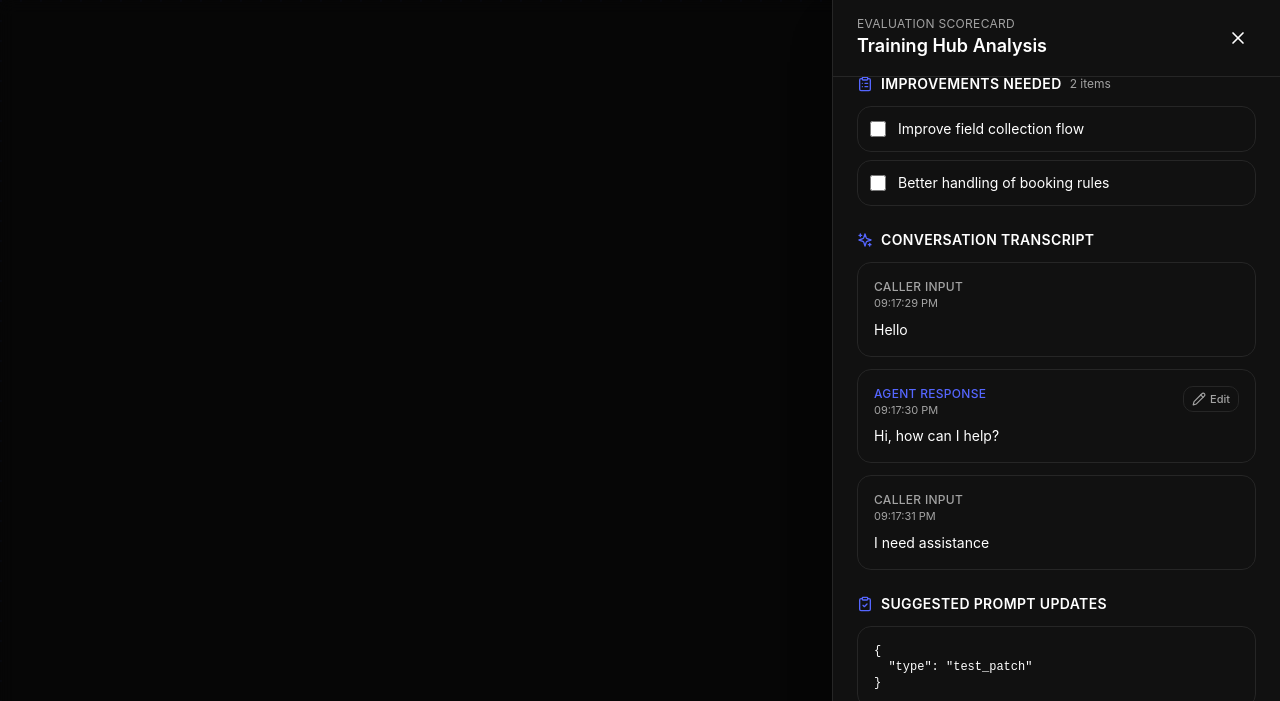
Scenario: EvaluationScorecard › Edit Workflow › should have prompt storage option selected by default
(page scrolled)
Click the button "Edit" at (1211, 399), box left=1183, top=386, right=1239, bottom=412
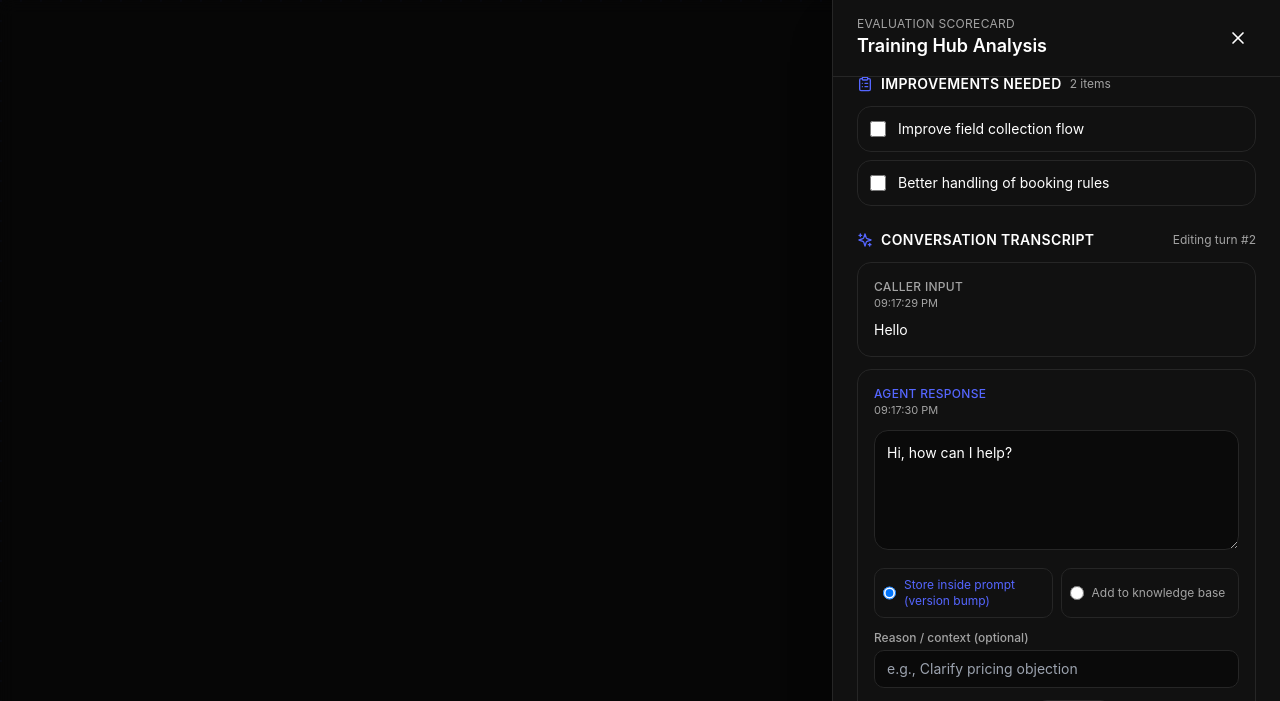
Expected: the radio button labelled "Store inside prompt (version bump)" is checked, left=883, top=586, right=896, bottom=600
